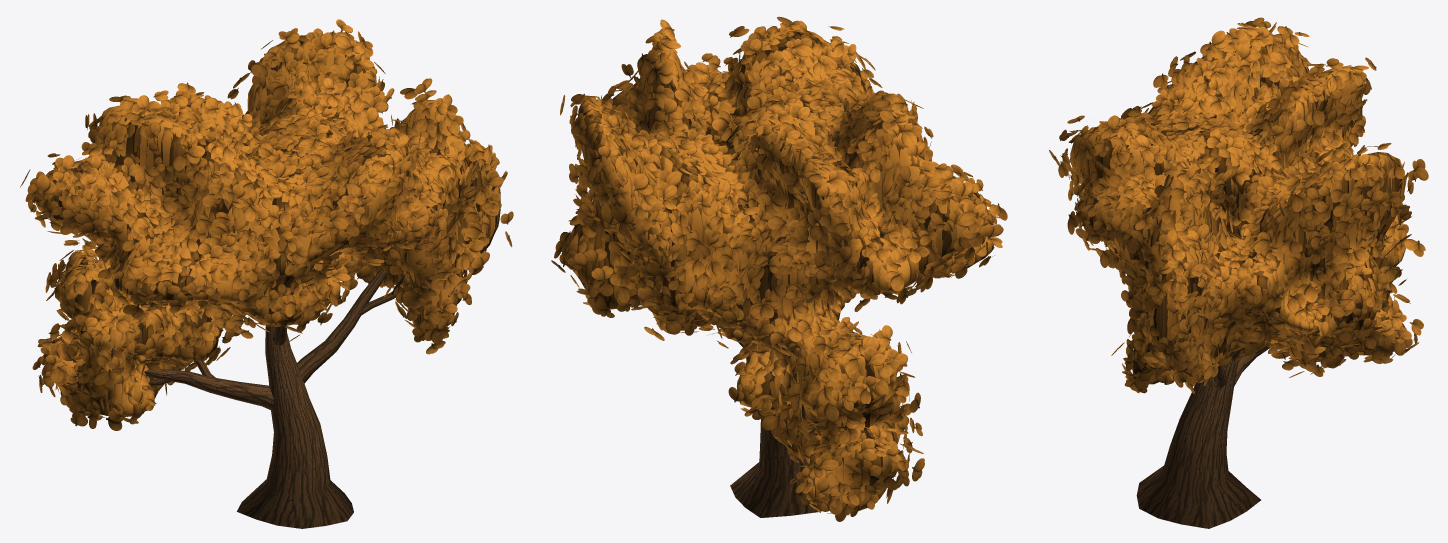
The model's file is oak_autumn.glb.
The picture shows the model from 3 angles, left to right: view 1: azimuth 30°, elevation 25°; view 2: azimuth 150°, elevation 25°; view 3: azimuth 270°, elevation 25°; orthographic projection. The views are drawn at different scales.
Parts seen in each view (by area): view 1: oak_autumn_leaves_LOD0, oak_autumn_volume_LOD0, oak_autumn_trunk_LOD0; view 2: oak_autumn_leaves_LOD0, oak_autumn_volume_LOD0, oak_autumn_trunk_LOD0; view 3: oak_autumn_leaves_LOD0, oak_autumn_volume_LOD0, oak_autumn_trunk_LOD0.
Boxes of the visible parts, x1=… form: oak_autumn_leaves_LOD0: x1=20, y1=19, x2=513, y2=430; oak_autumn_volume_LOD0: x1=35, y1=34, x2=500, y2=416; oak_autumn_trunk_LOD0: x1=144, y1=266, x2=404, y2=528; oak_autumn_leaves_LOD0: x1=551, y1=16, x2=1007, y2=521; oak_autumn_volume_LOD0: x1=567, y1=28, x2=994, y2=511; oak_autumn_trunk_LOD0: x1=730, y1=342, x2=821, y2=517; oak_autumn_leaves_LOD0: x1=1049, y1=17, x2=1428, y2=393; oak_autumn_volume_LOD0: x1=1070, y1=34, x2=1405, y2=386; oak_autumn_trunk_LOD0: x1=1136, y1=317, x2=1276, y2=528.
Size of what is drawn, in the model's own units: 11.02 by 9.97 by 8.2.
Materials: 3 (3 with a texture image).
